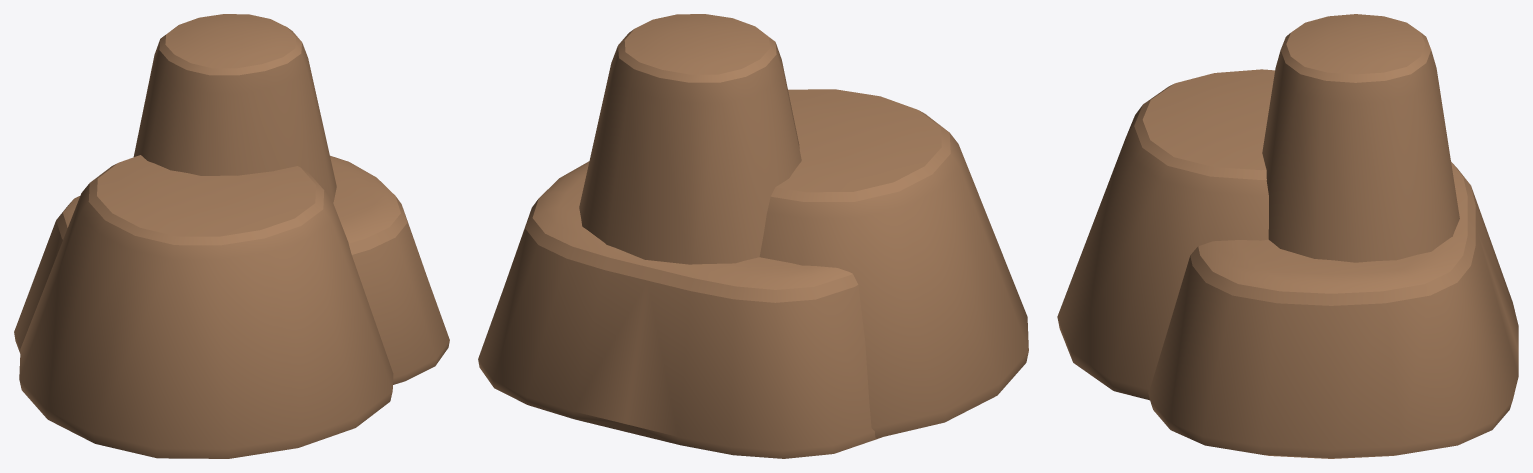
Rendered from cliff_step_3.glb.
3 views of the same model, side by side, from view 1: azimuth 30°, elevation 25°; view 2: azimuth 150°, elevation 25°; view 3: azimuth 270°, elevation 25° (orthographic). The views are drawn at different scales.
Visible parts, largest first — view 1: RockPlatforms_3; view 2: RockPlatforms_3; view 3: RockPlatforms_3.
Part boxes in pixels (<box>): RockPlatforms_3: <box>14,14,449,458</box>; RockPlatforms_3: <box>478,14,1028,458</box>; RockPlatforms_3: <box>1057,14,1518,458</box>.
Size of the model in its own units: 6 by 4.38 by 5.44.
